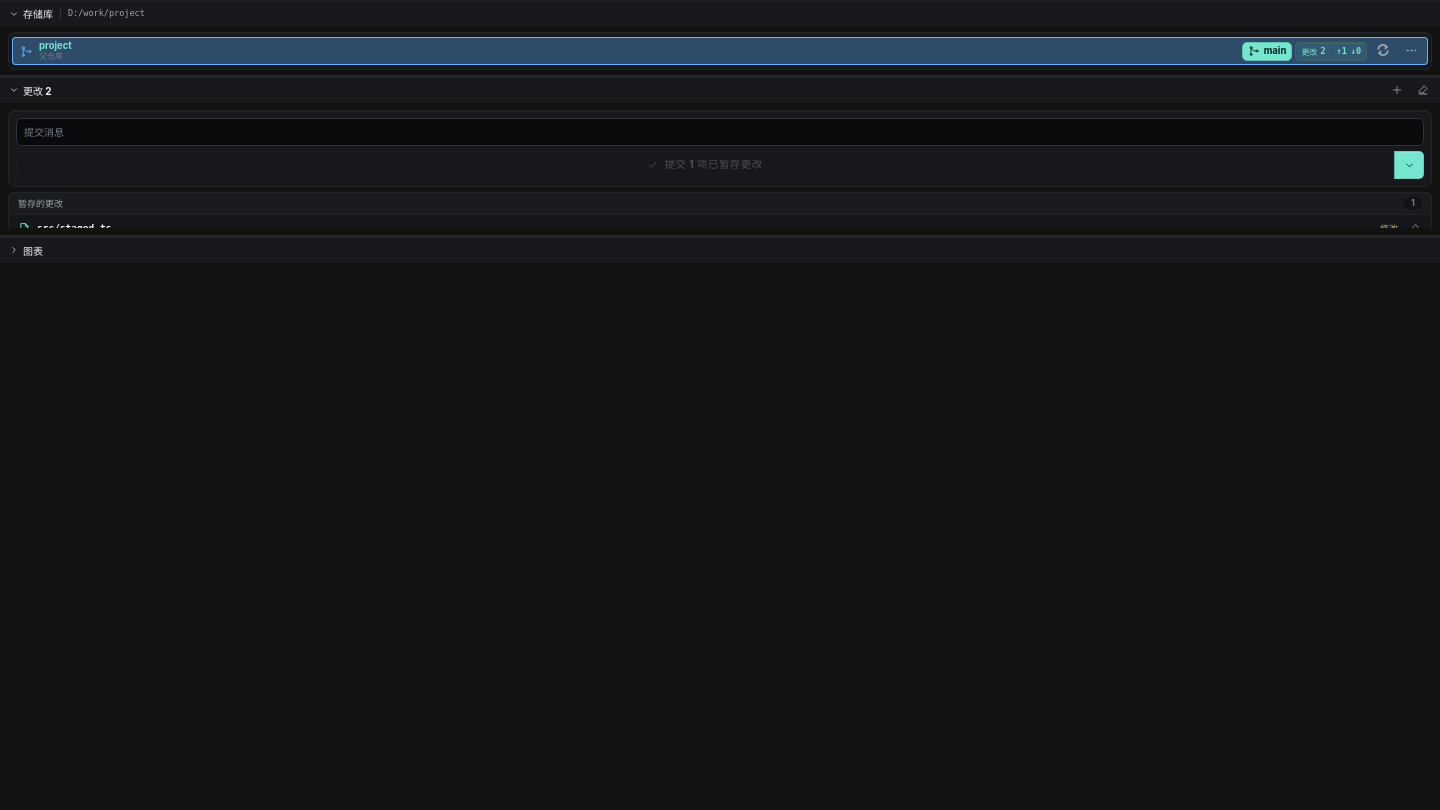
Test: GitPane commit graph › keeps the commit branch form open when Git rejects the mutation
The width and height of the screenshot is (1440, 810).
Expected: the text "project" is shown, x1=39 y1=40 x2=72 y2=51
Click the button "图表" at (14, 250), box x1=5 y1=240 x2=1435 y2=260
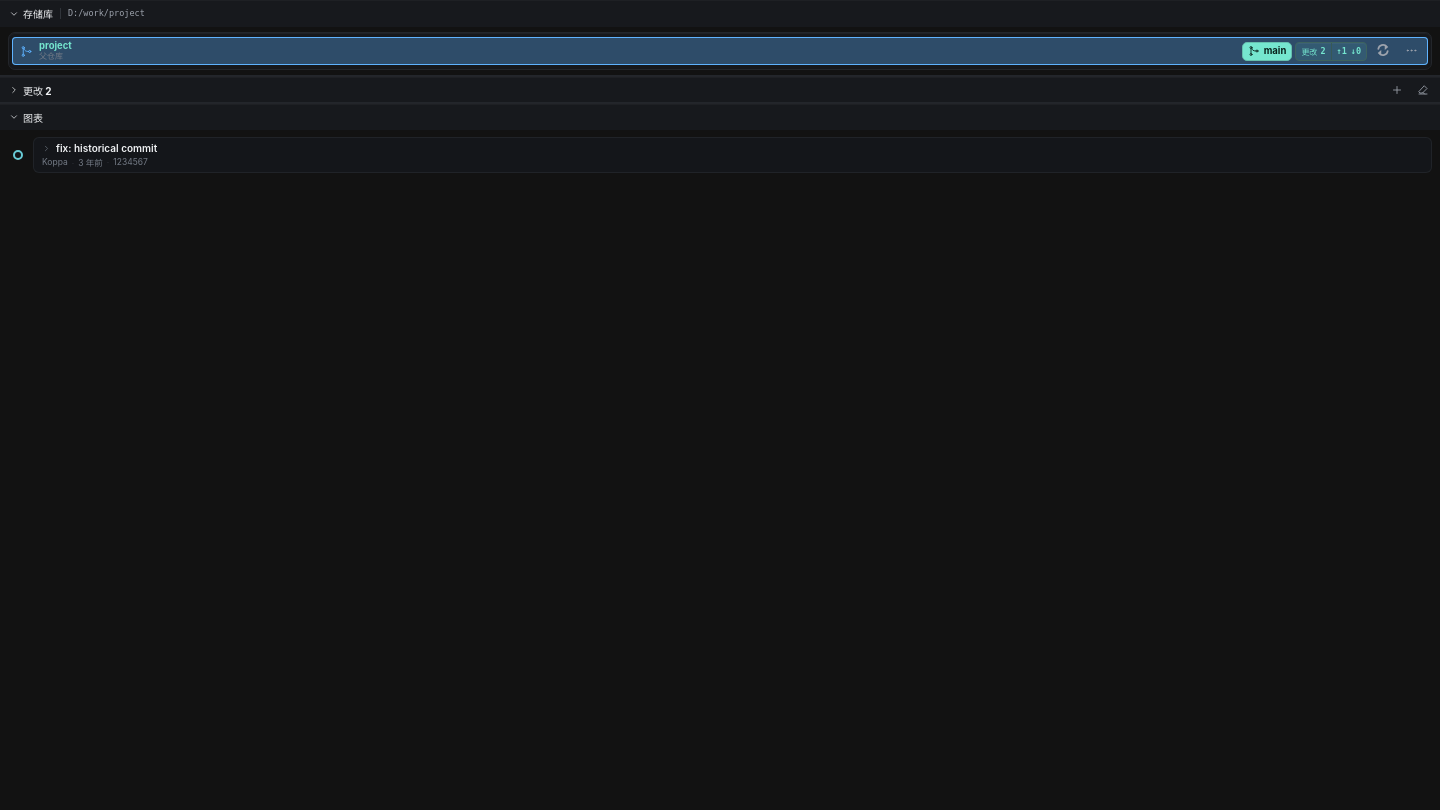
Right-click the button "fix: historical commit Koppa 3 年前 1234567" at (720, 155), box x1=8 y1=137 x2=1432 y2=173
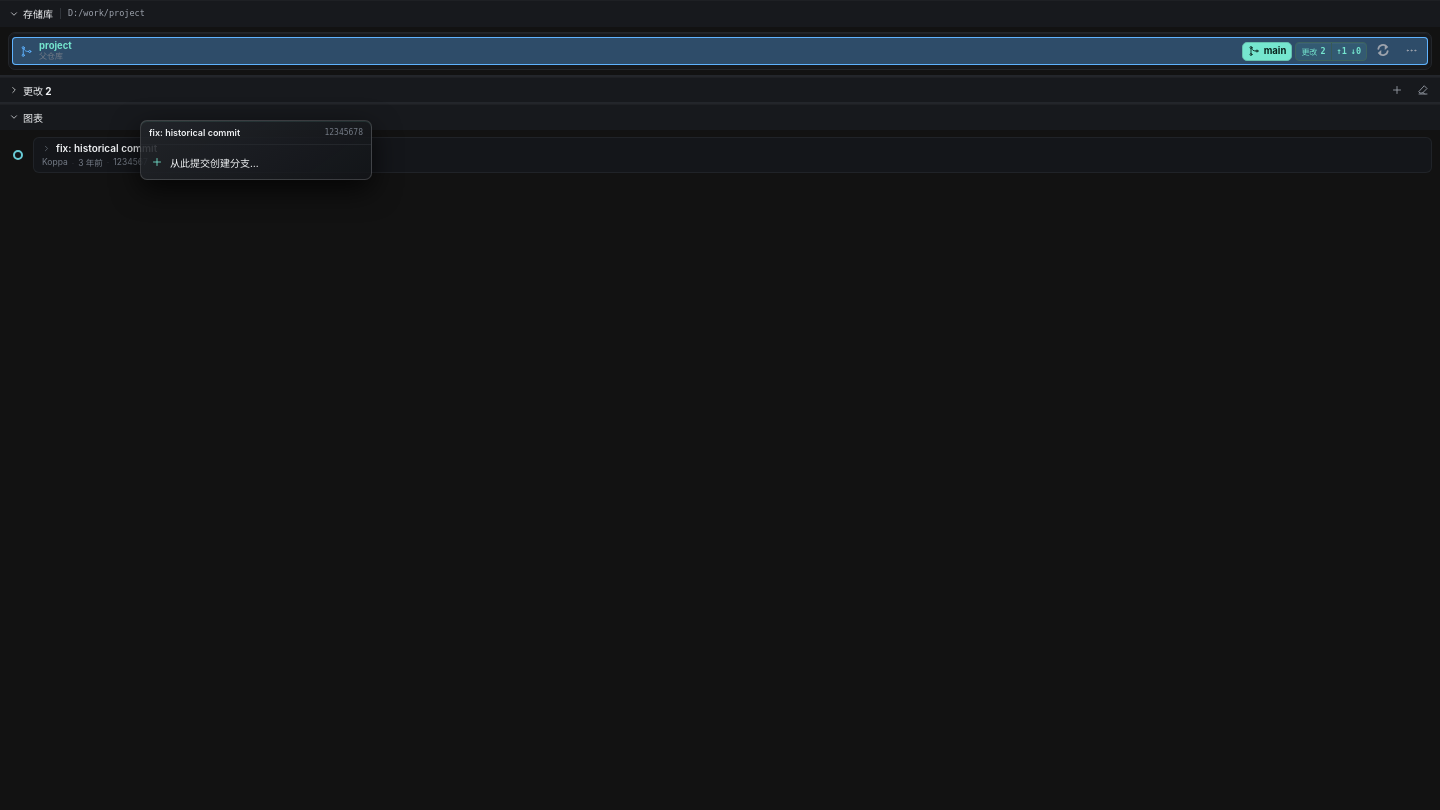
Click the menu item "从此提交创建分支…" at (256, 162), box x1=144 y1=148 x2=368 y2=176
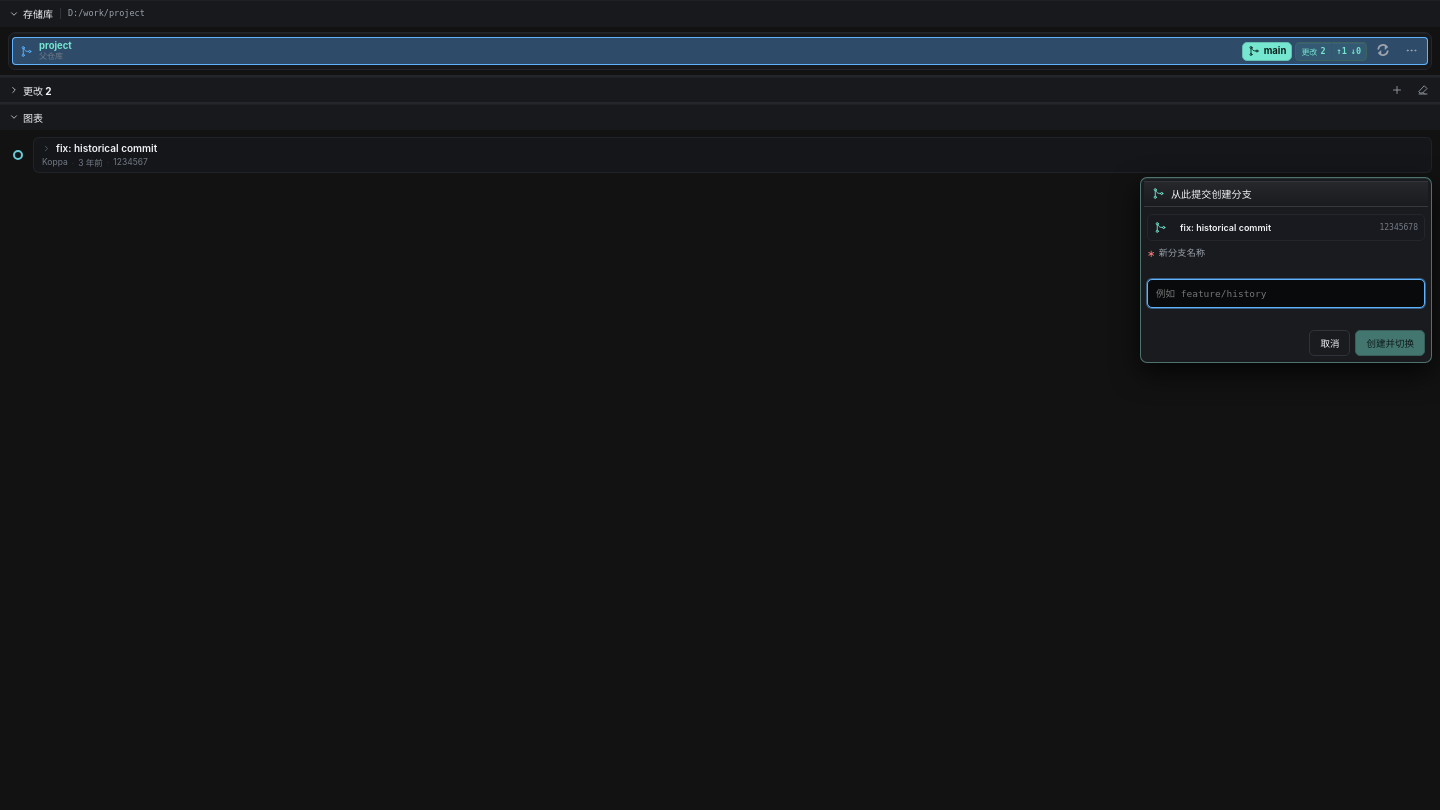
Type "feature/conflict" into the field labelled "新分支名称" at (1286, 294), box x1=1147 y1=279 x2=1425 y2=308
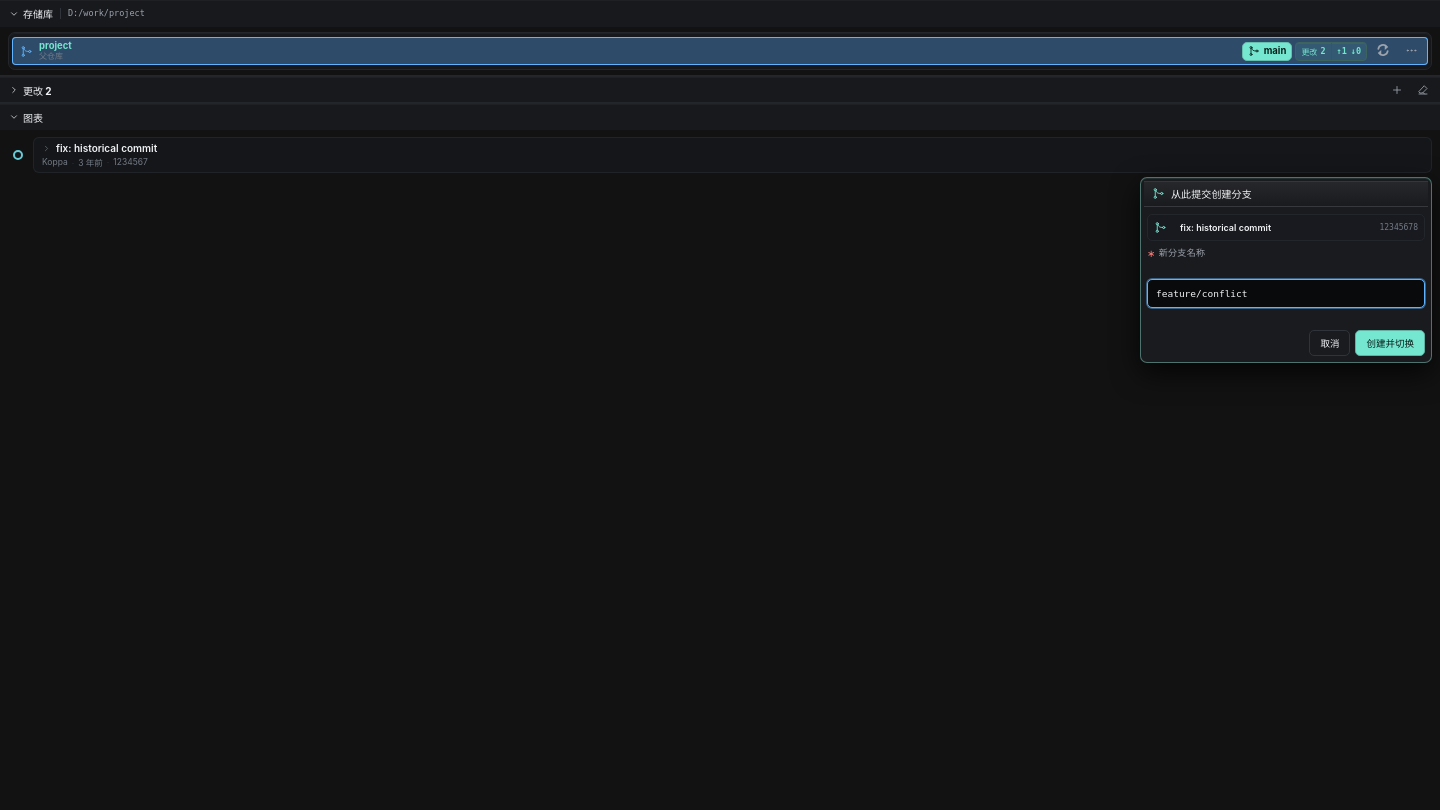
Click the button "创建并切换" at (1390, 343), box x1=1356 y1=330 x2=1425 y2=356
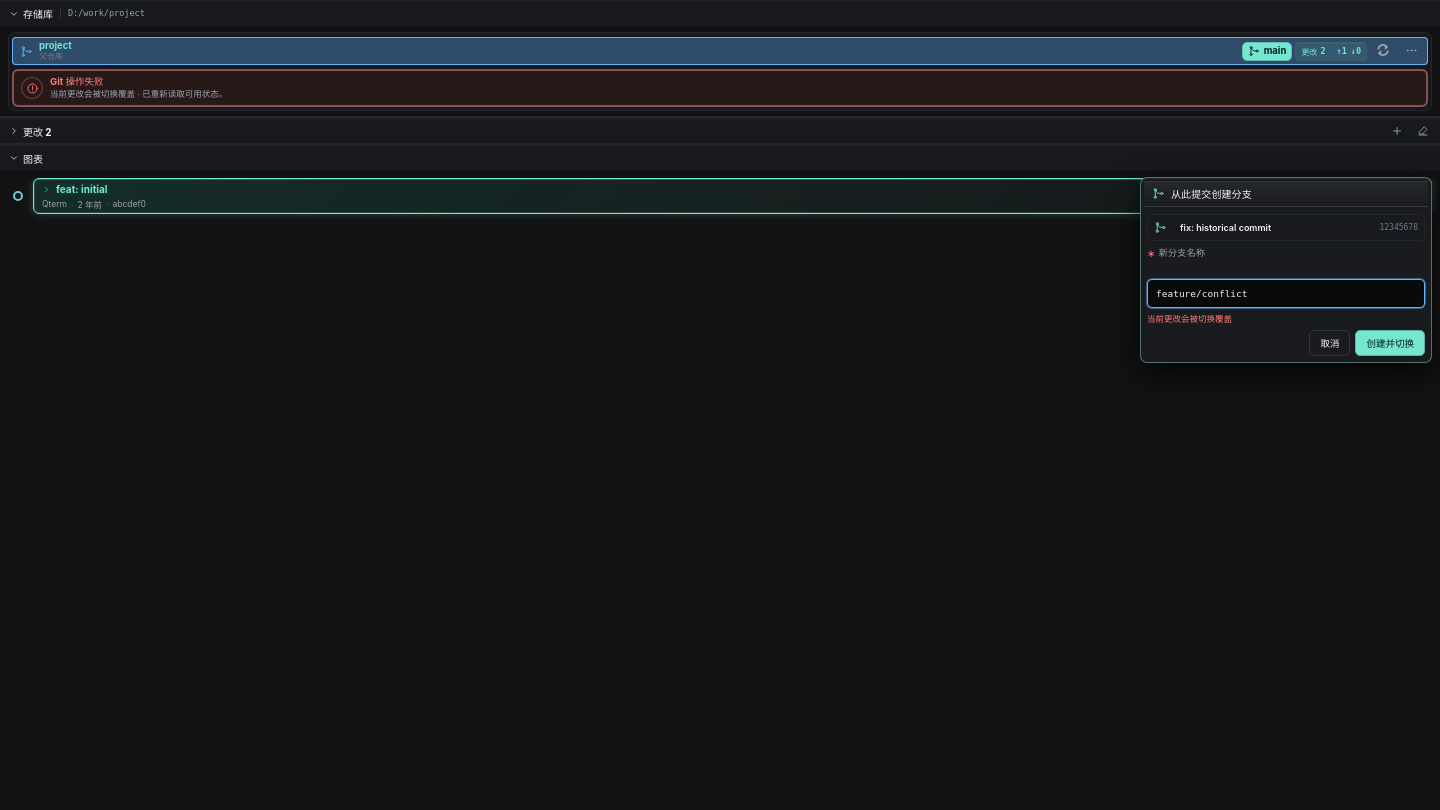
Result: the dialog "从此提交创建分支" is shown at x1=1140 y1=177 x2=1432 y2=363
Result: the message "当前更改会被切换覆盖" is shown at x1=1147 y1=314 x2=1232 y2=324
